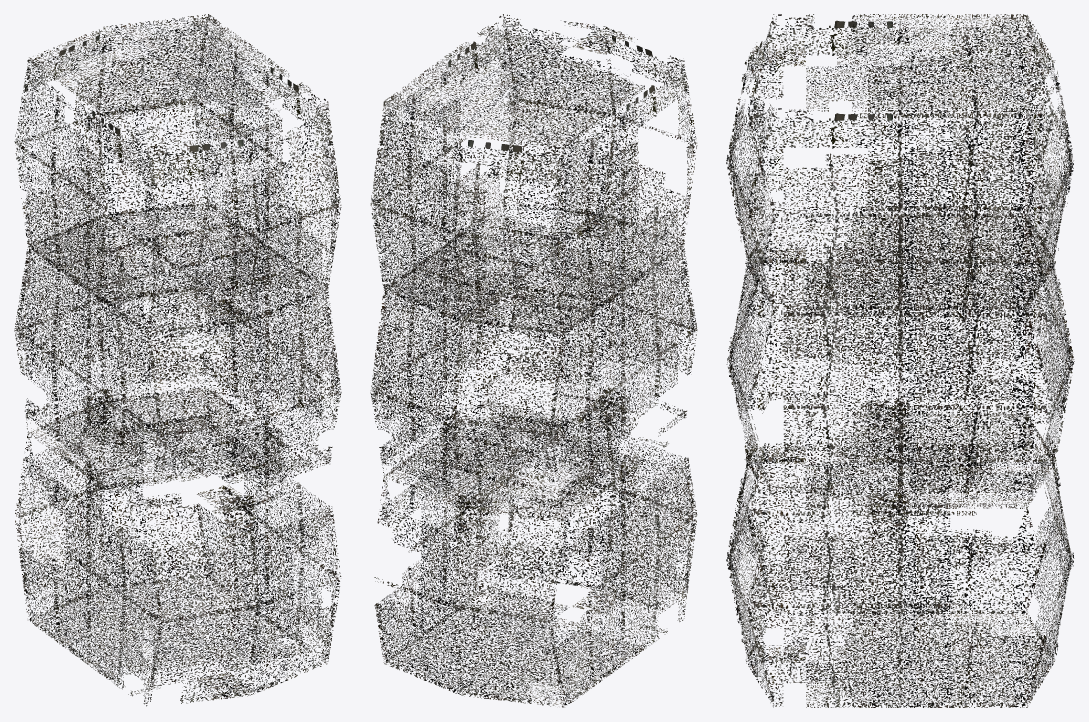
Rendered from SnowmanBuilding.fbx.
3 renders of one model, left to right at view 1: azimuth 30°, elevation 25°; view 2: azimuth 150°, elevation 25°; view 3: azimuth 270°, elevation 25°, orthographic. The views are drawn at different scales.
Visible parts, largest first — view 1: Cube.006; view 2: Cube.006; view 3: Cube.006.
Part boxes in pixels (x1,y1,x2,y2): Cube.006: [14, 14, 341, 706]; Cube.006: [370, 14, 697, 707]; Cube.006: [726, 14, 1074, 707].
Bounding box in the file's own units: 86.4 × 255 × 134.
Materials: 1 (1 with a texture image).
